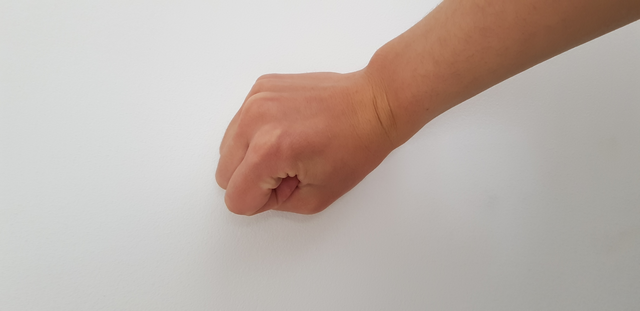Rock: (180, 55, 424, 233)
